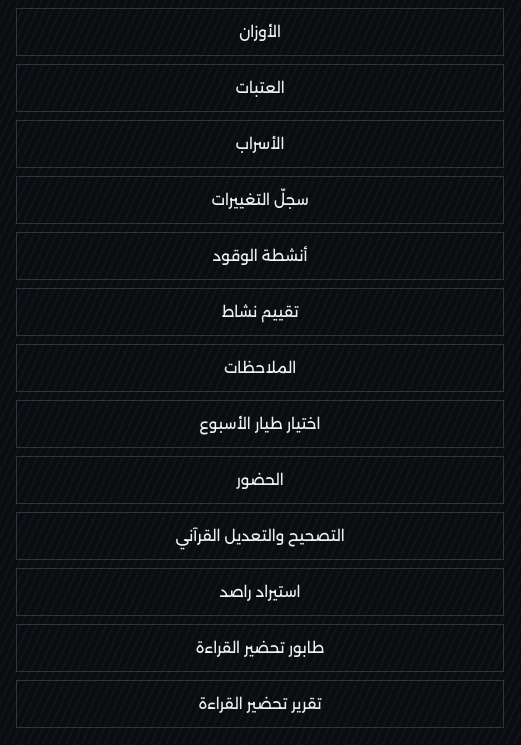
it: تحضير القراءة — و-١١ › المشرف: تقرير المنظمة يعرض النسبة والتعثّر كما وصلا
This screenshot has width=521, height=745.
(page scrolled)
Step 1. Click the button "تقرير تحضير القراءة" → (260, 704), box [16,680,504,728]
(page scrolled)
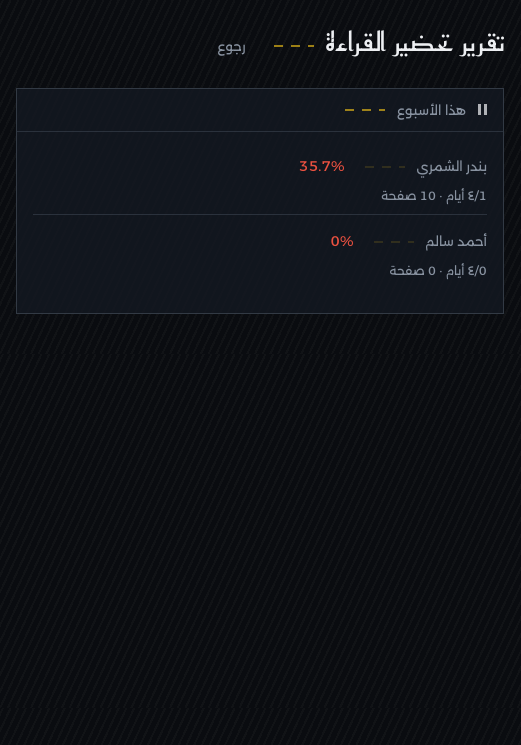
Expected: the text "بندر الشمري" is shown, [416,155,487,177]
Result: the text "أحمد سالم" is shown at [426,230,487,252]
Result: the text "35.7%" is shown at [299,157,345,175]
